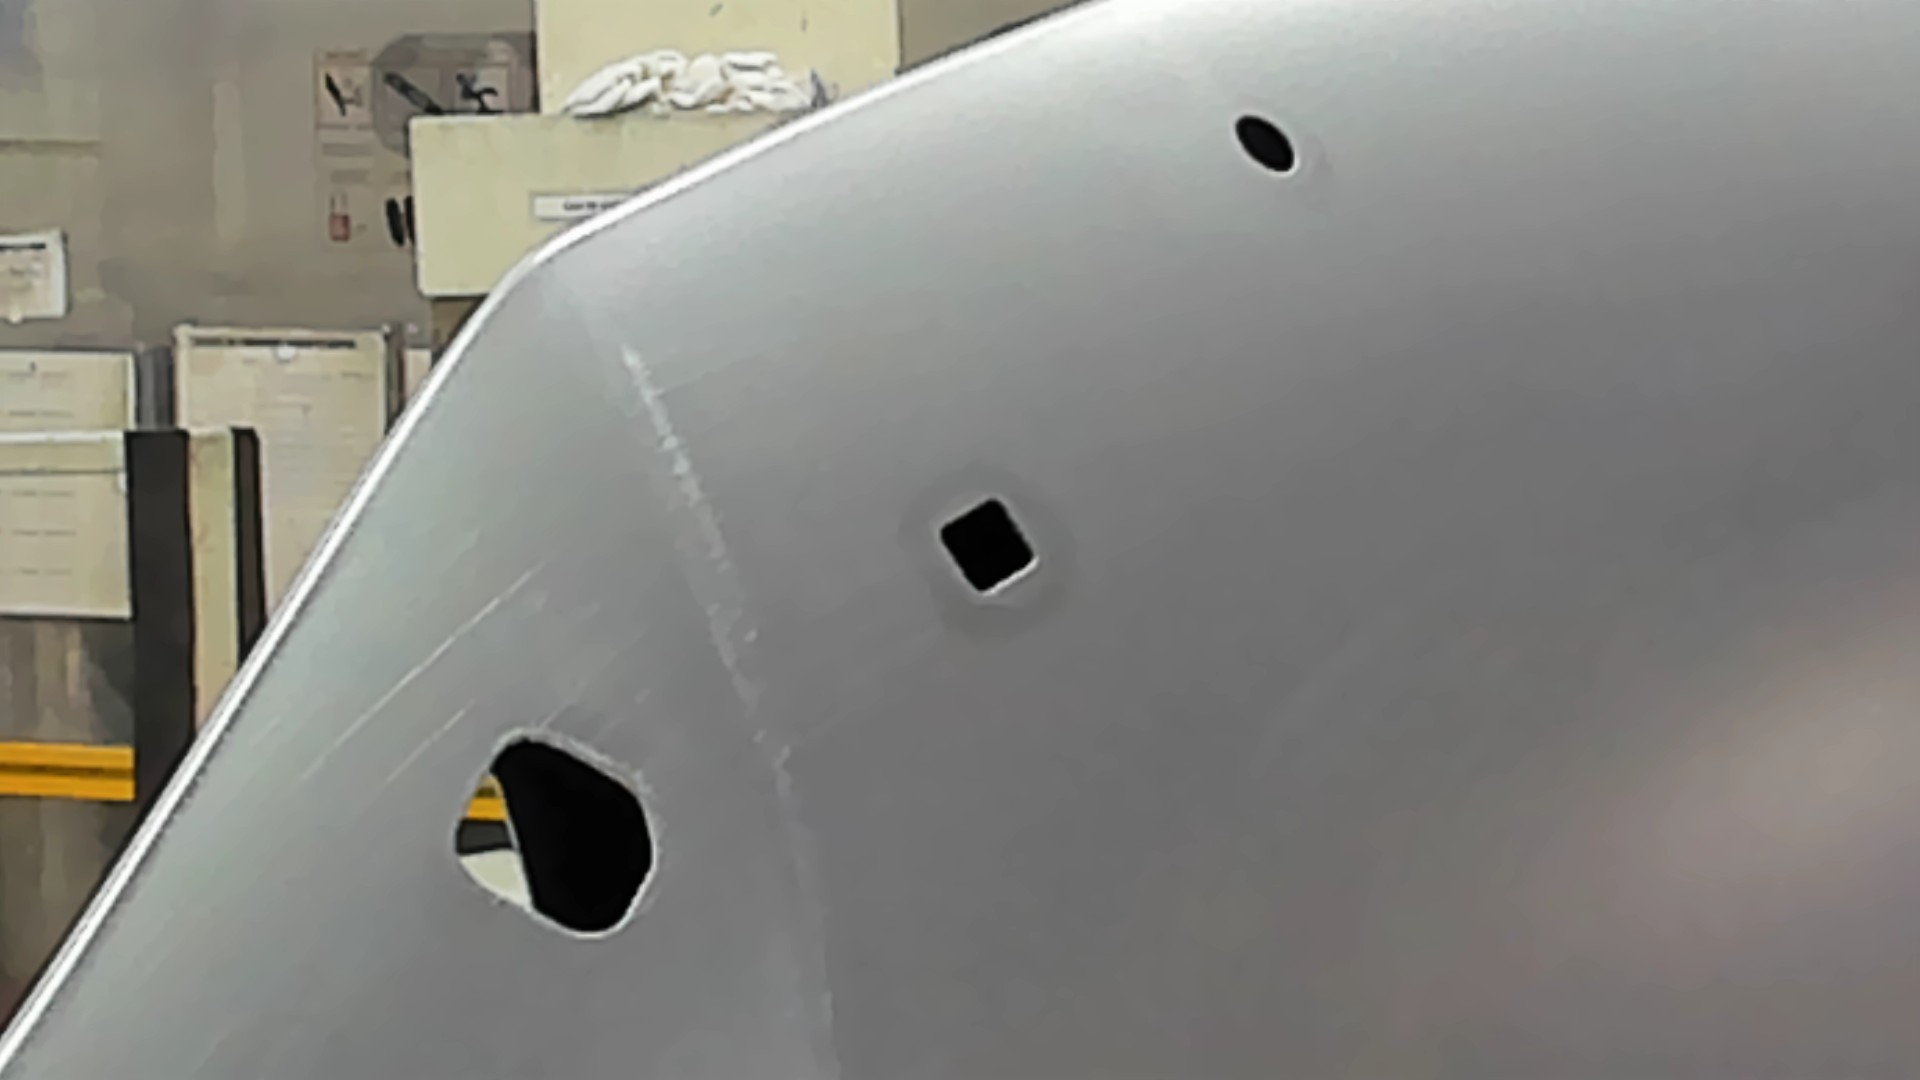capo: (1048, 179, 1920, 1080)
chico: (1232, 109, 1303, 179)
grande: (451, 723, 657, 949)
mediano: (934, 495, 1044, 607)
